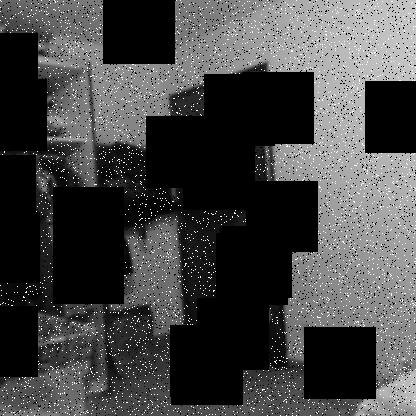Porte: (167, 61, 292, 370)
